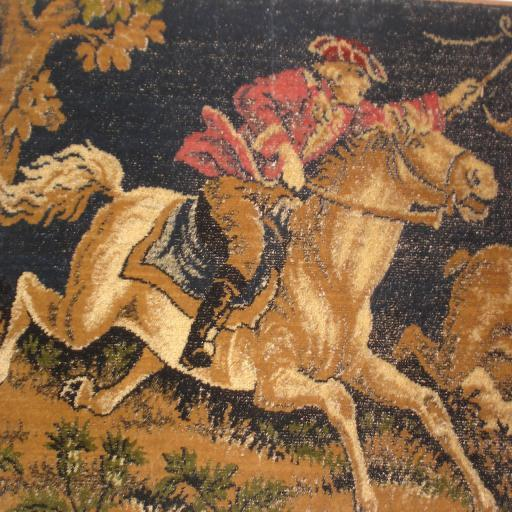horse: (0, 100, 498, 512)
